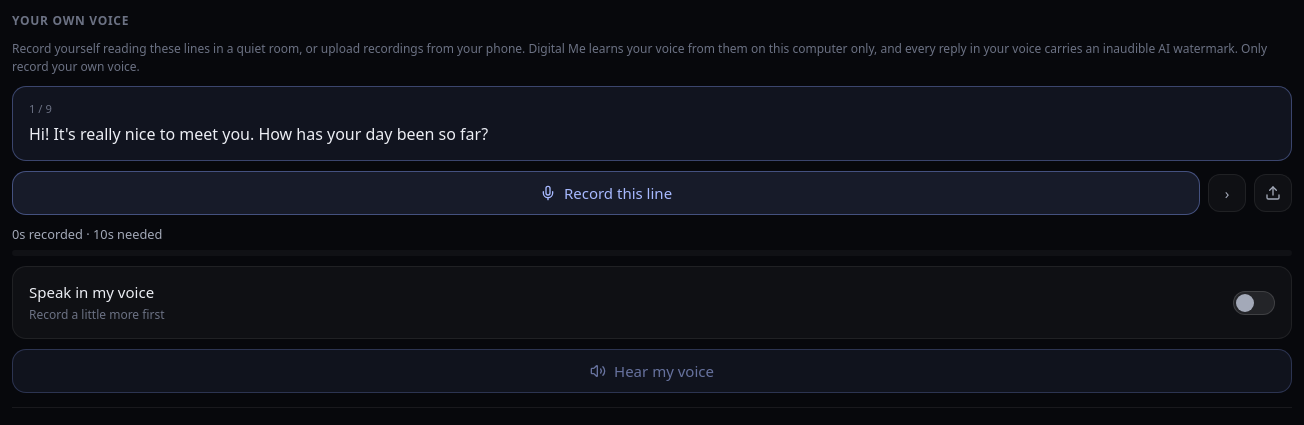
Test: your own voice › records a line and sends it to be learnt
This screenshot has width=1304, height=425.
Expected: the switch labelled "Speak in my voice Record a little more first" is disabled, [1233,291,1275,315]
Step 1. Click the button "Record this line" → (606, 193), box [12,171,1200,215]
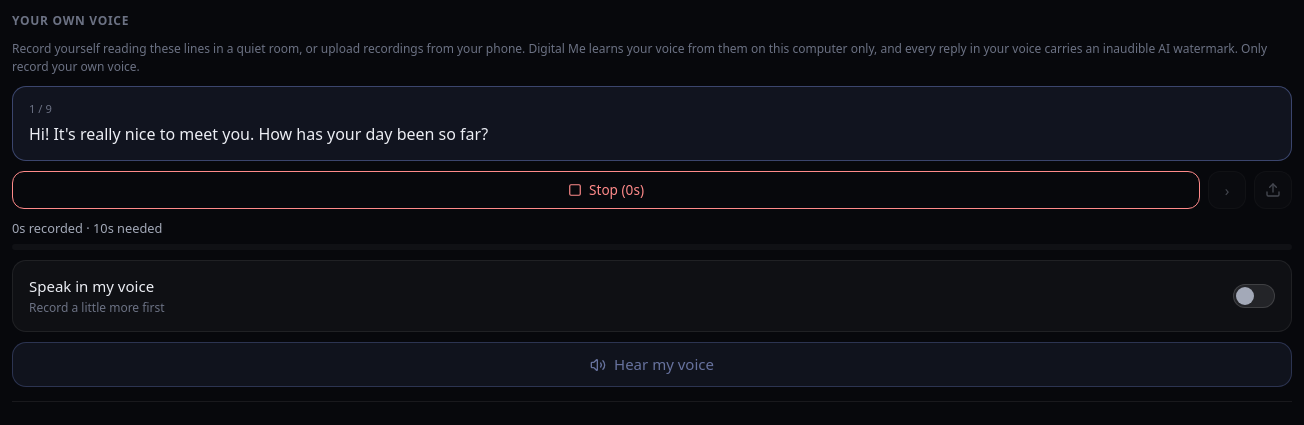
Step 2. Click the button "Stop (0s)" → (606, 190), box [12,171,1200,209]
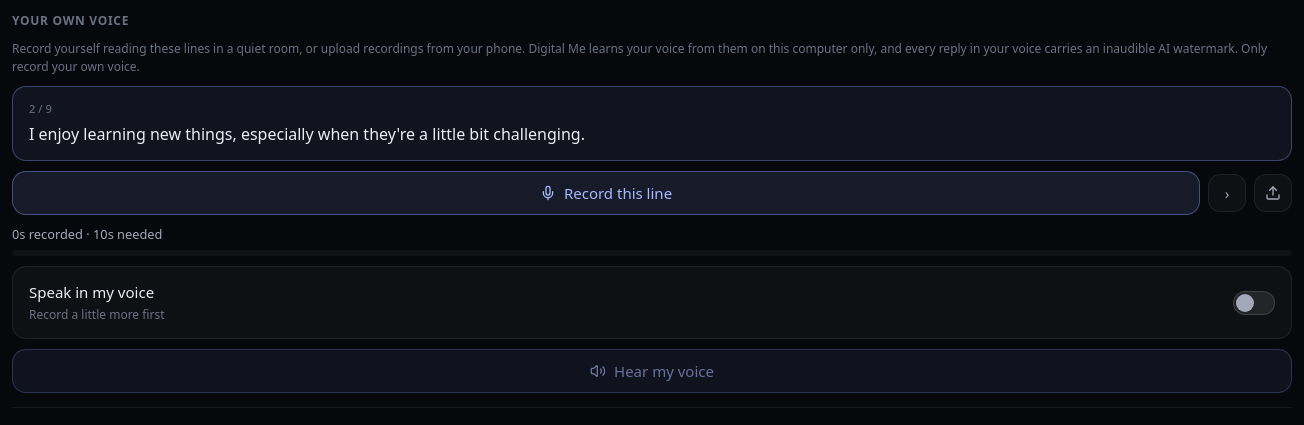
Expected: the text "2 / 9" is shown, [29,101,52,116]
